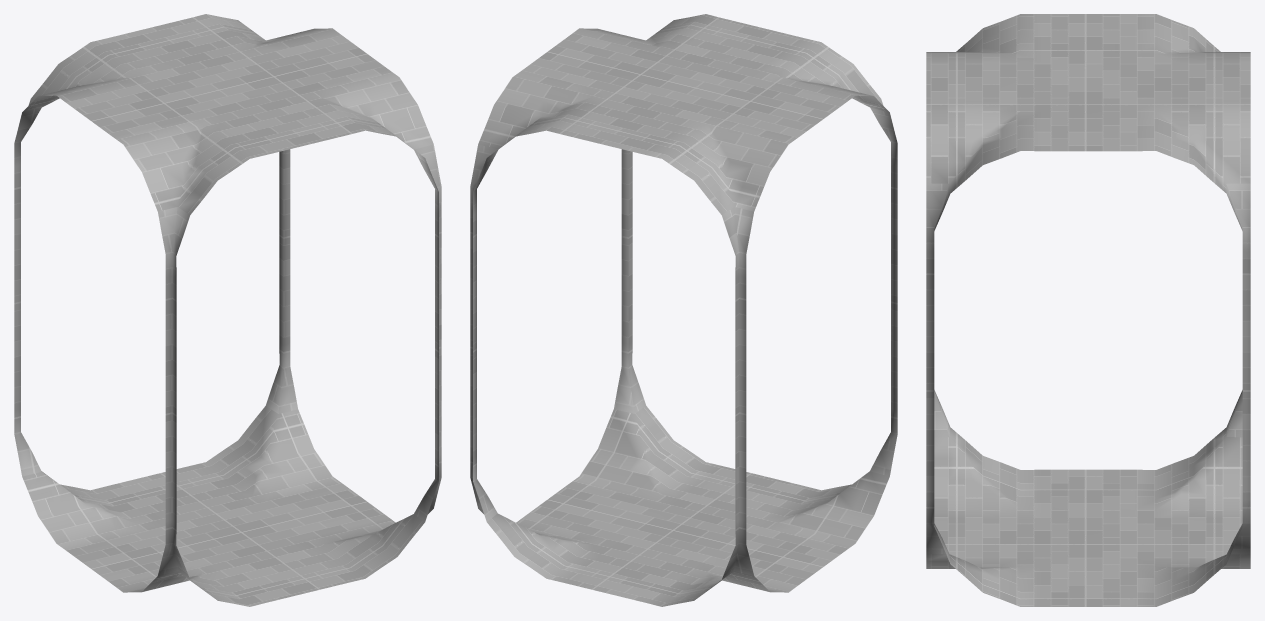
The model's file is proto_wall_founr_sided_01.fbx.
3 renders of one model, left to right at view 1: azimuth 30°, elevation 25°; view 2: azimuth 150°, elevation 25°; view 3: azimuth 270°, elevation 25°, orthographic.
Visible parts, largest first — view 1: proto_wall_founr_sided_01; view 2: proto_wall_founr_sided_01; view 3: proto_wall_founr_sided_01.
Part boxes in pixels (x1,y1,x2,y2): proto_wall_founr_sided_01: (14,14,441,606); proto_wall_founr_sided_01: (470,14,897,606); proto_wall_founr_sided_01: (926,14,1250,606).
Bounding box in the file's own units: 200 × 310 × 200.
